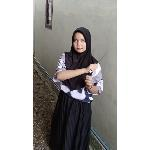Pisau: (86, 49, 112, 75)
